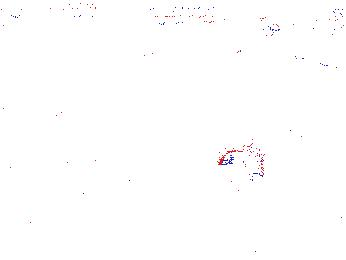flame jellyfish: (22, 135, 110, 188), (201, 138, 267, 196), (67, 156, 127, 213)
